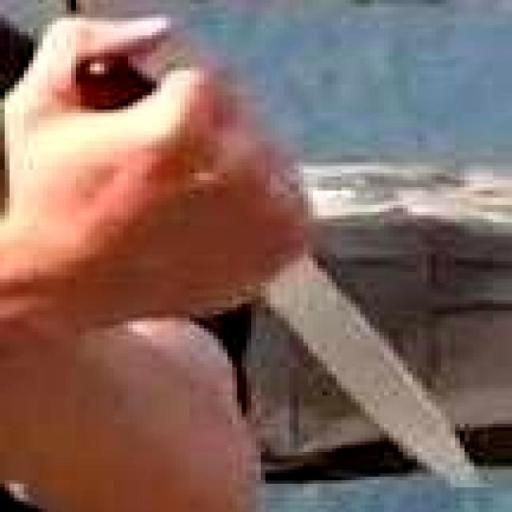knife: (65, 46, 500, 502)
